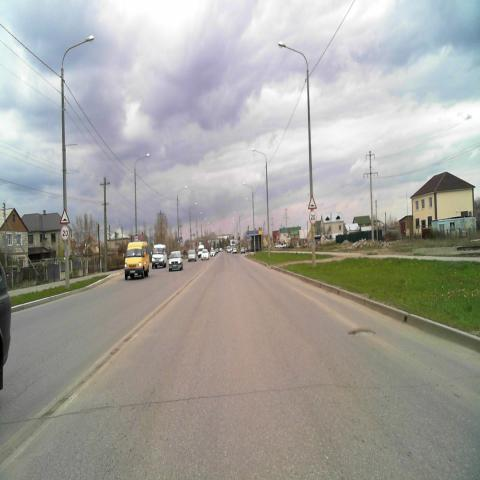1_17: (308, 195, 316, 209)
